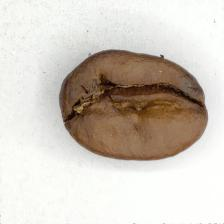NG: (76, 73, 199, 147)
